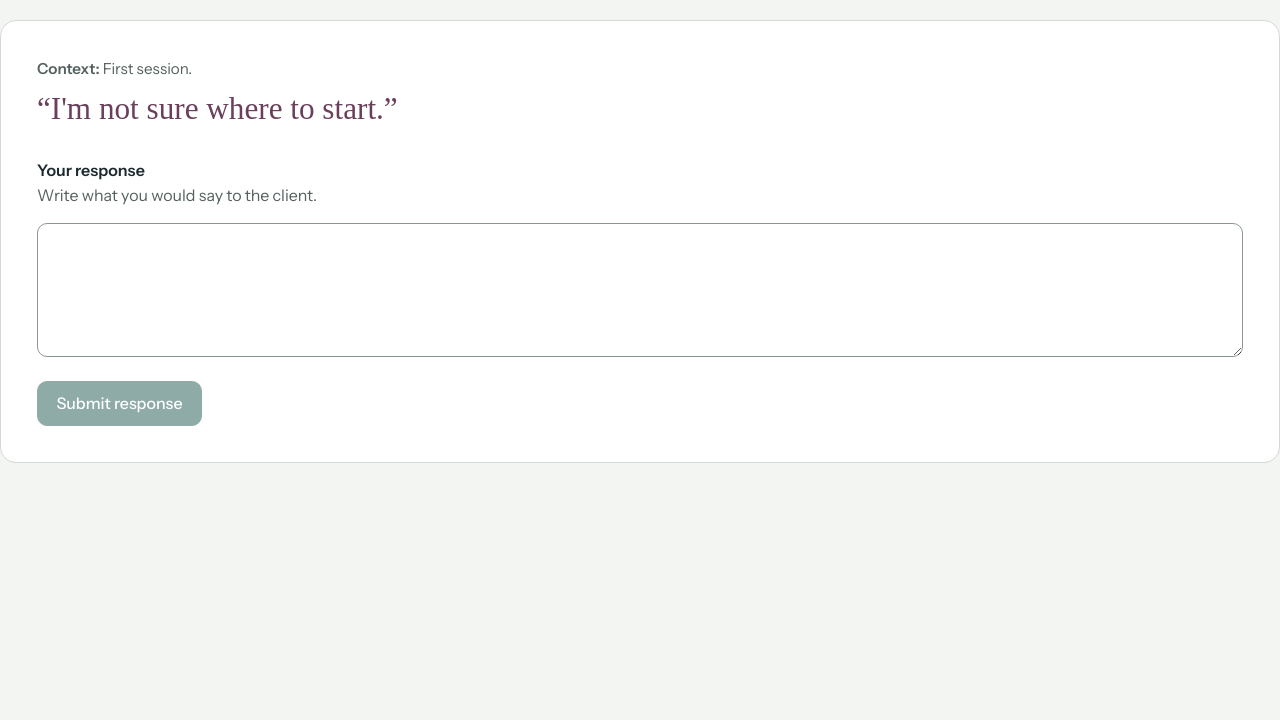
it: drill card with AI feedback › feature off: after saving there is no AI button and the client is never touched
Type "What brings you here today? Say as much as you like." into the text box labelled "Your response" at (640, 290), box [37, 223, 1243, 357]
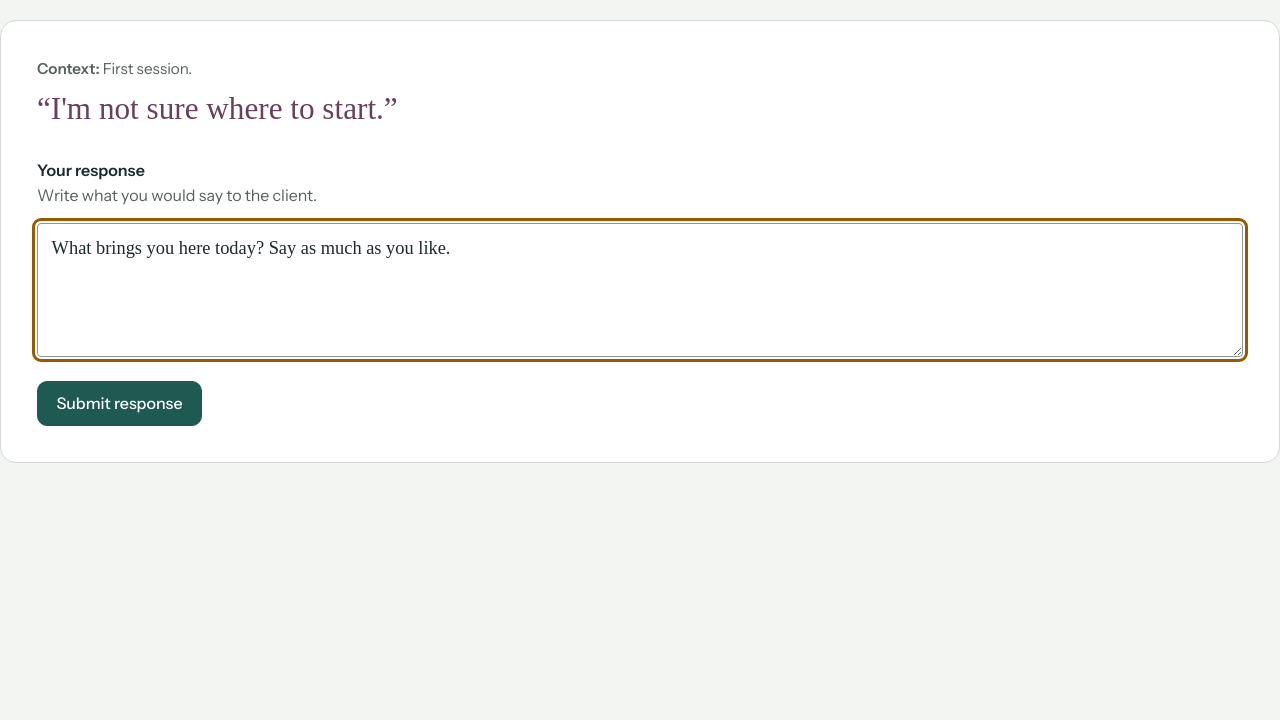
Click the button "Submit response" at (120, 404), box [37, 381, 202, 426]
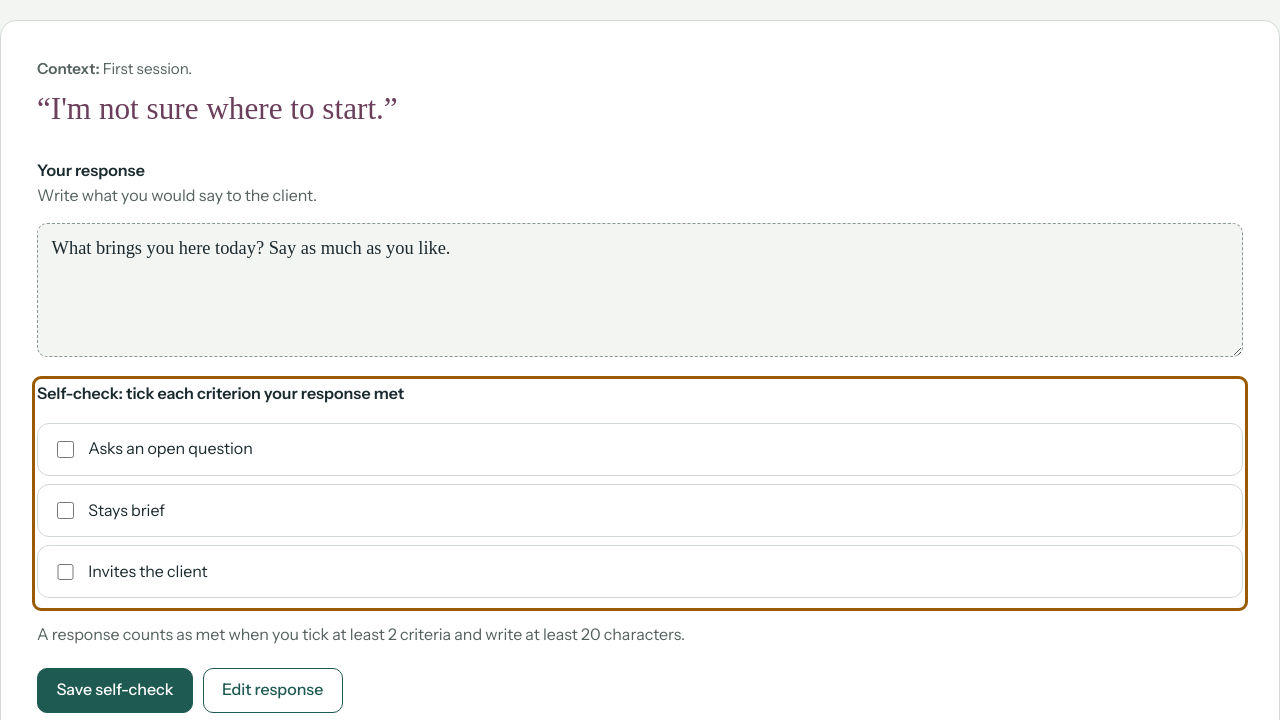
Click the checkbox labelled "Asks an open question" at (66, 450), box [57, 441, 74, 458]
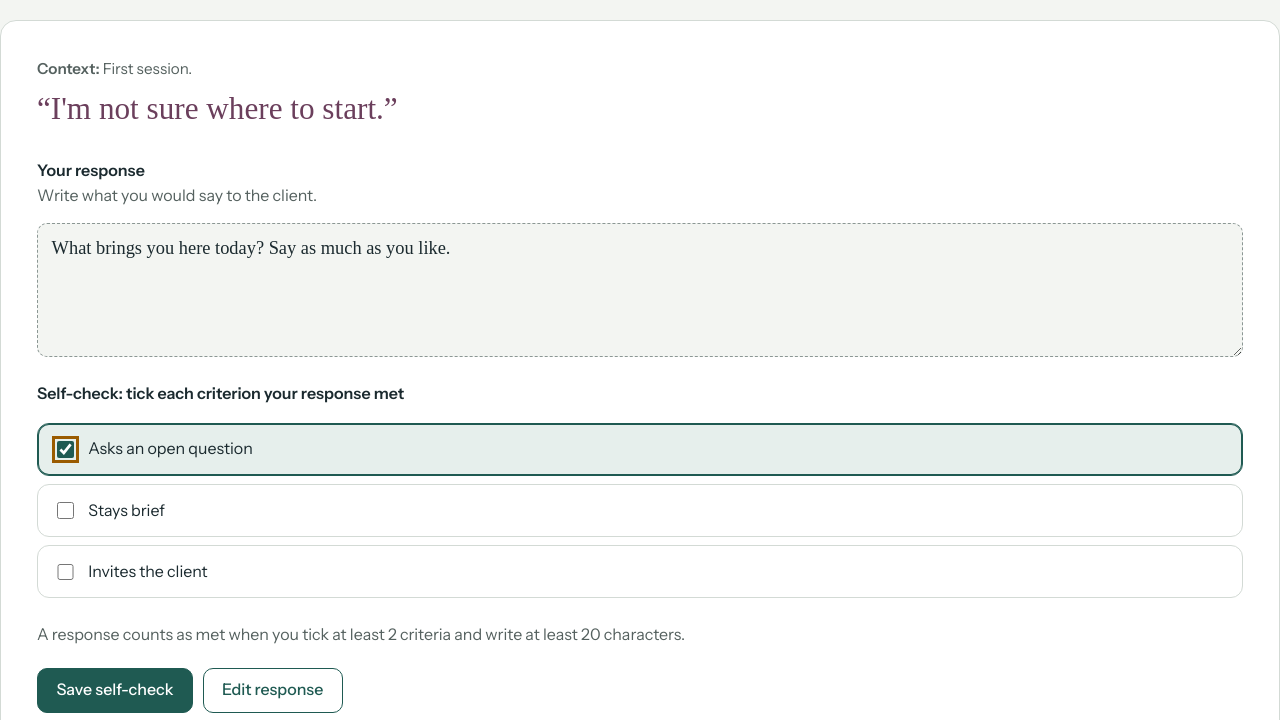
Click the checkbox labelled "Invites the client" at (66, 572), box [57, 564, 74, 580]
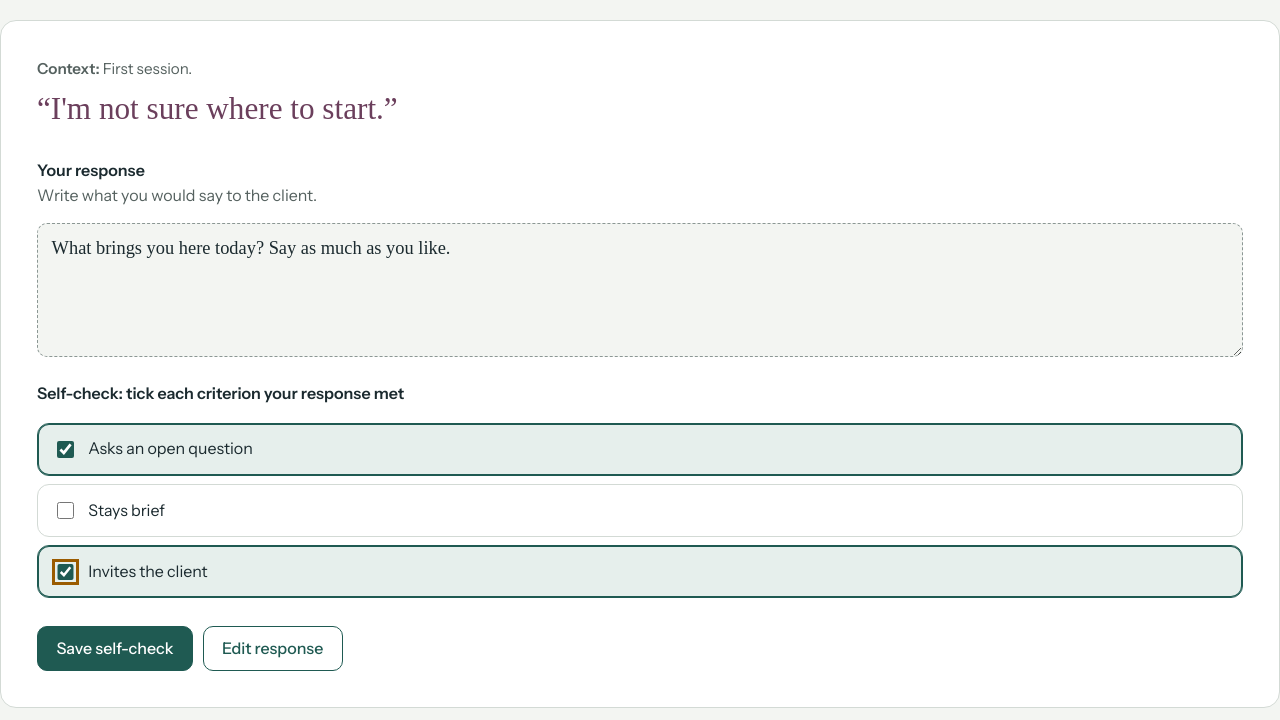
Click the button "Save self-check" at (115, 649), box [37, 626, 193, 671]
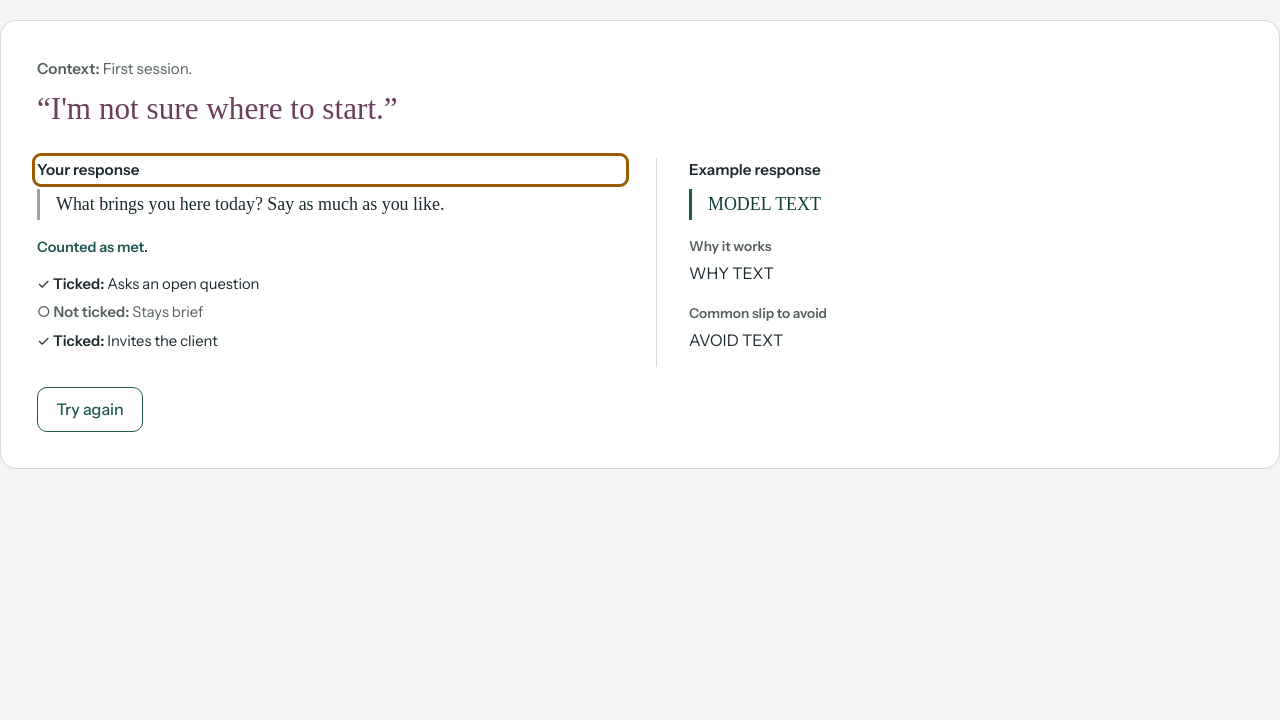
Check: the text "MODEL TEXT" is shown, box [689, 189, 1243, 220]
